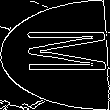M_E: (5, 31, 105, 79)
